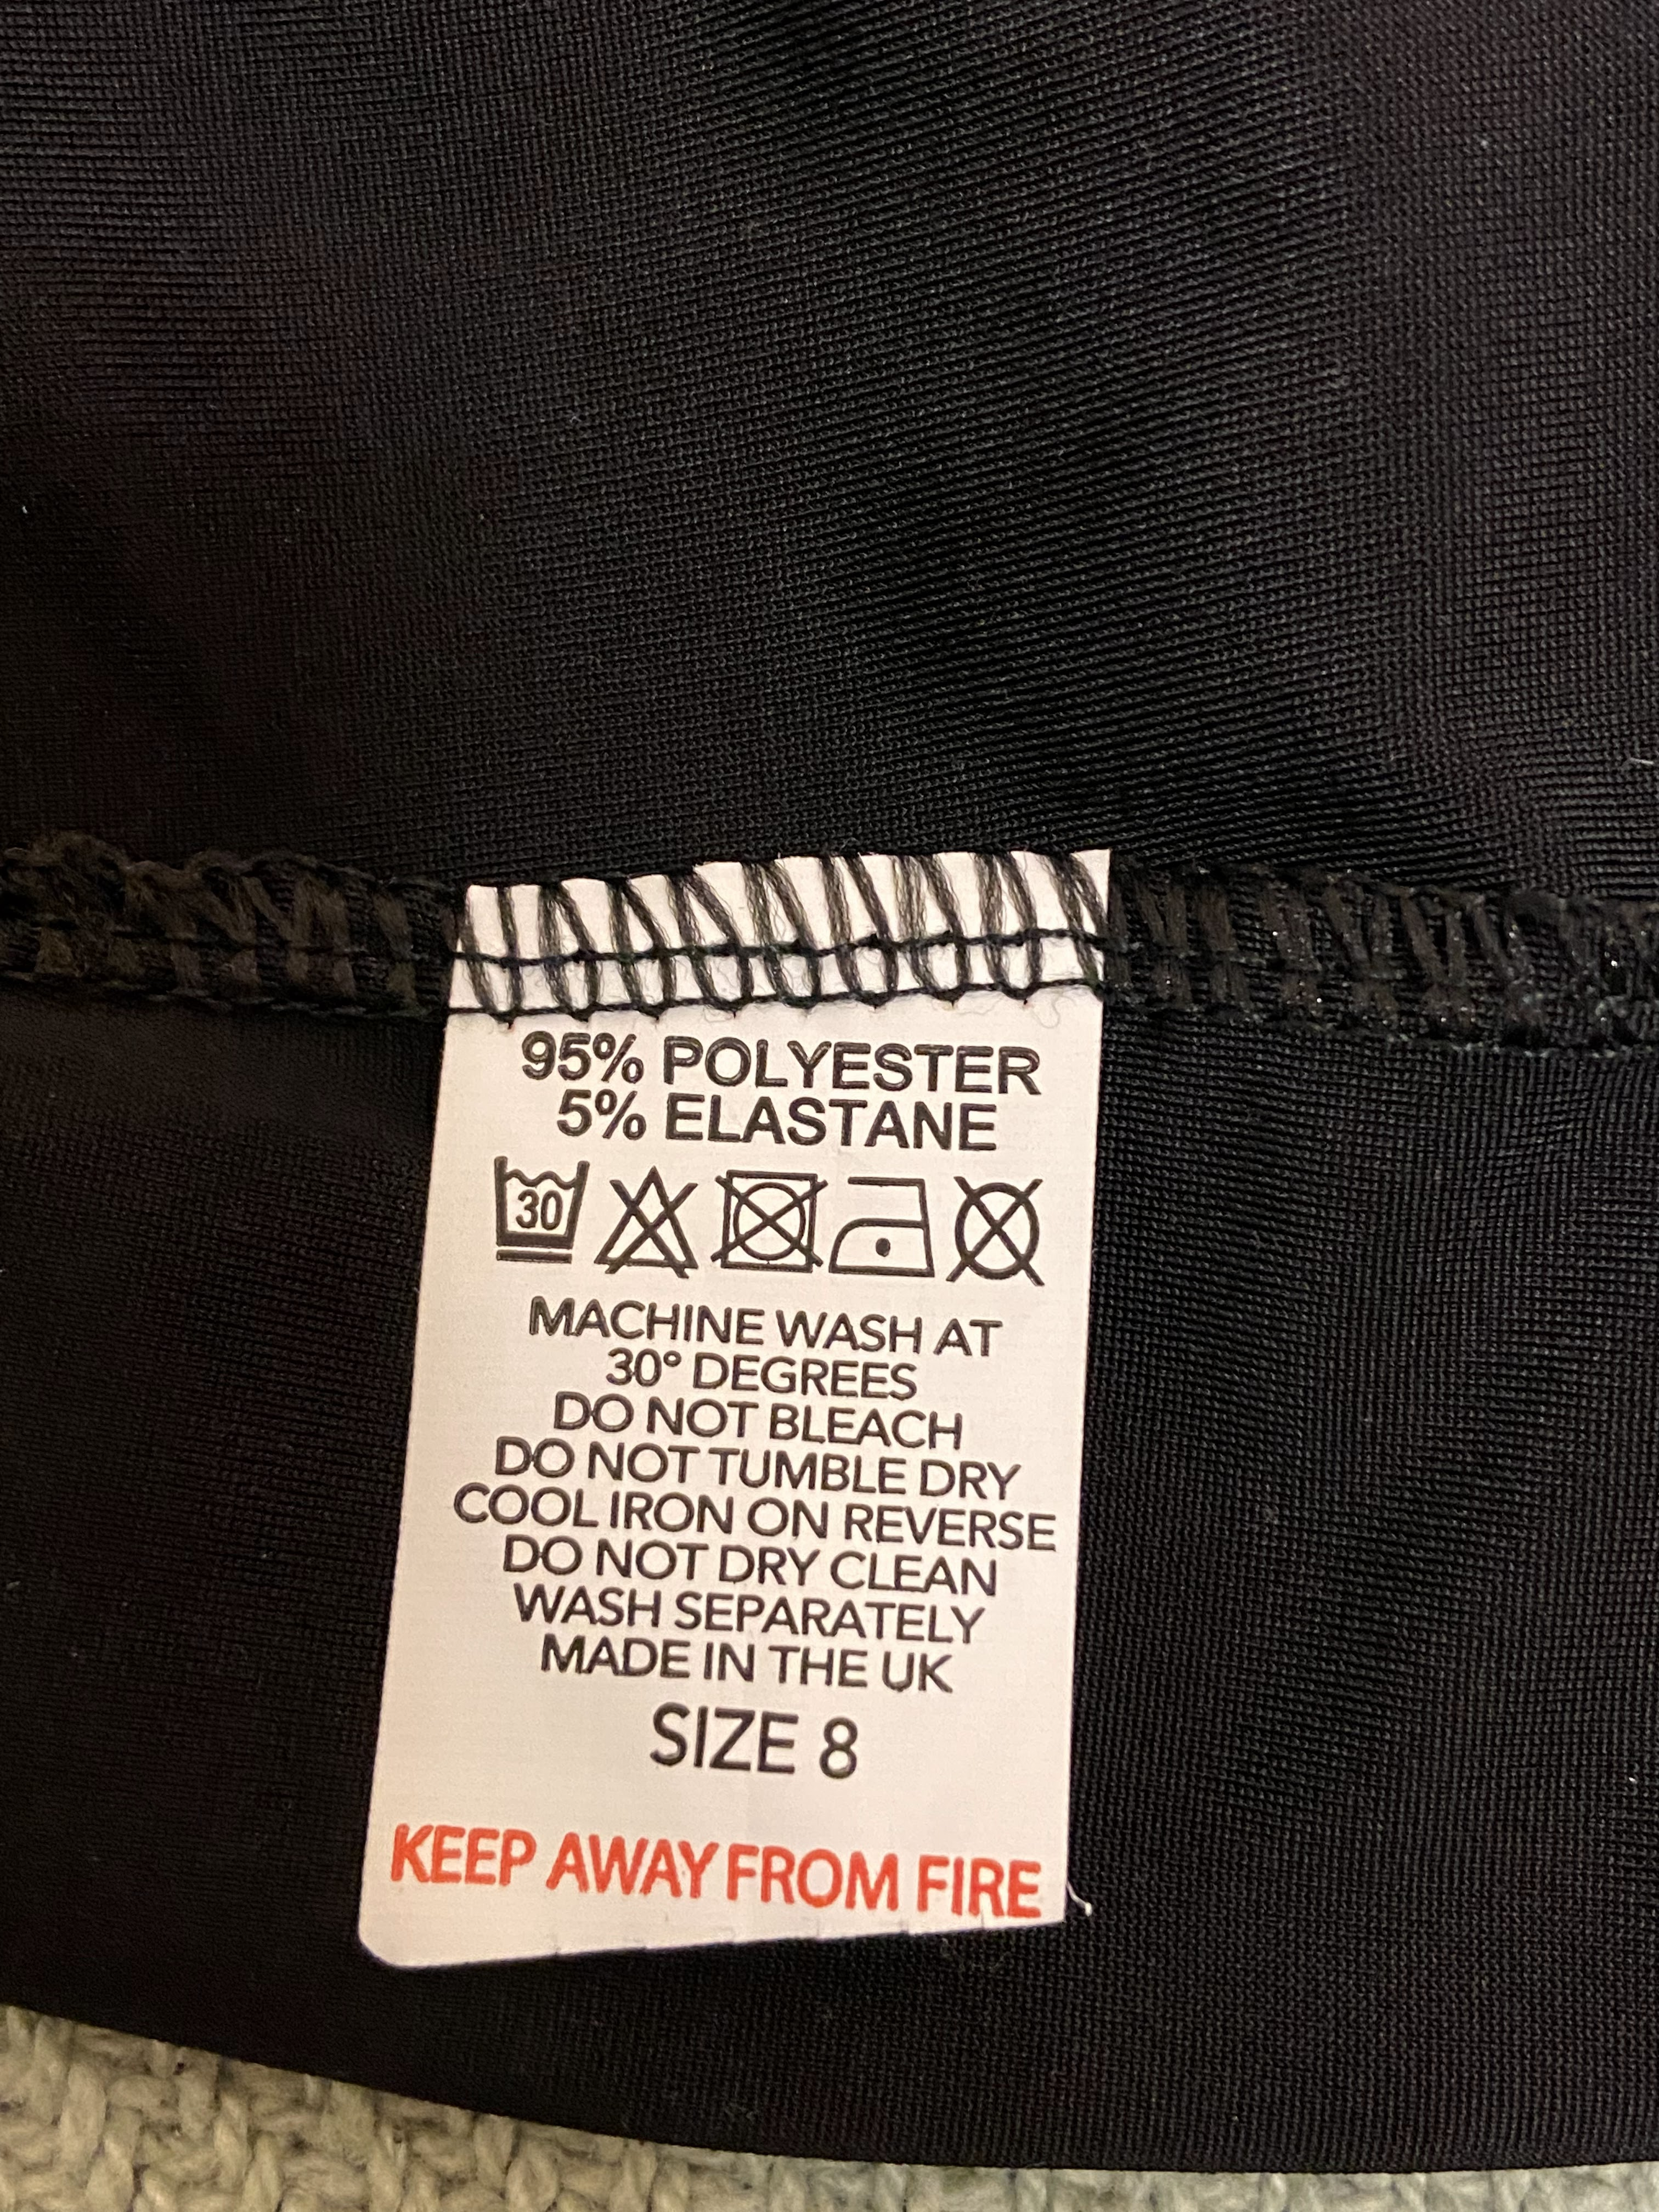do not bleach: (601, 1170, 711, 1291)
do not dry clean: (939, 1163, 1075, 1336)
do not tumble dry: (716, 1157, 838, 1291)
iron low temp: (828, 1167, 941, 1289)
wash at or below 30: (457, 1141, 596, 1287)
